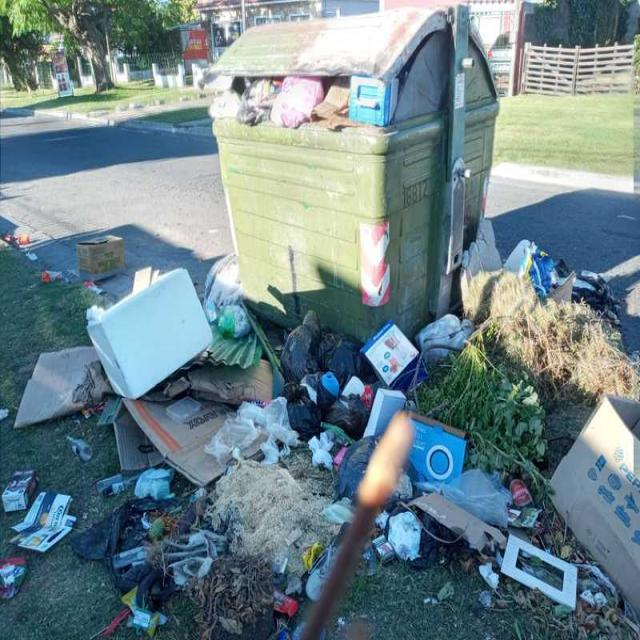garbage: (92, 266, 471, 484), (372, 468, 590, 610), (75, 471, 184, 637), (496, 240, 630, 336), (190, 76, 388, 130), (0, 471, 75, 598), (15, 338, 109, 433), (62, 232, 143, 286)
